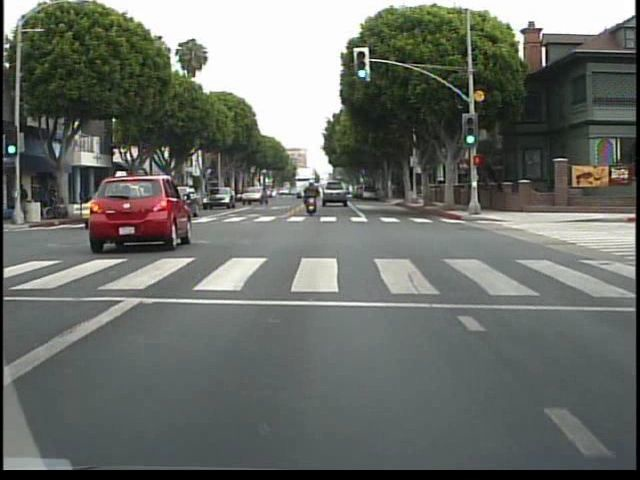person: (303, 177, 324, 222)
